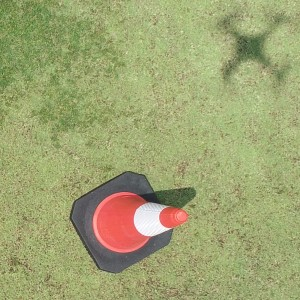traffic cone: (71, 171, 187, 273)
